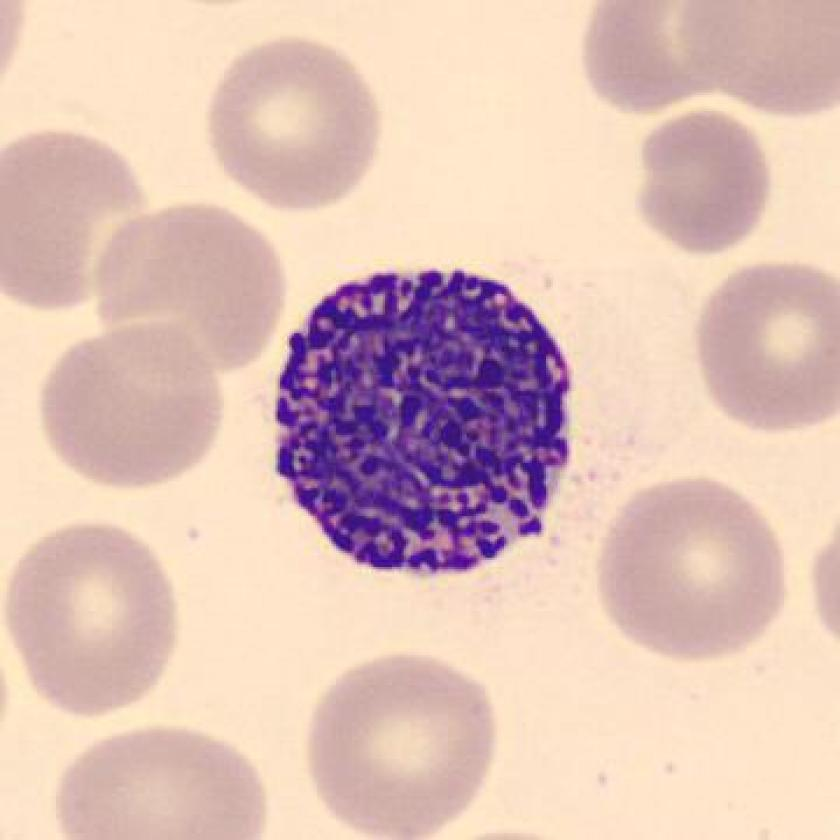basophil: (272, 267, 580, 584)
